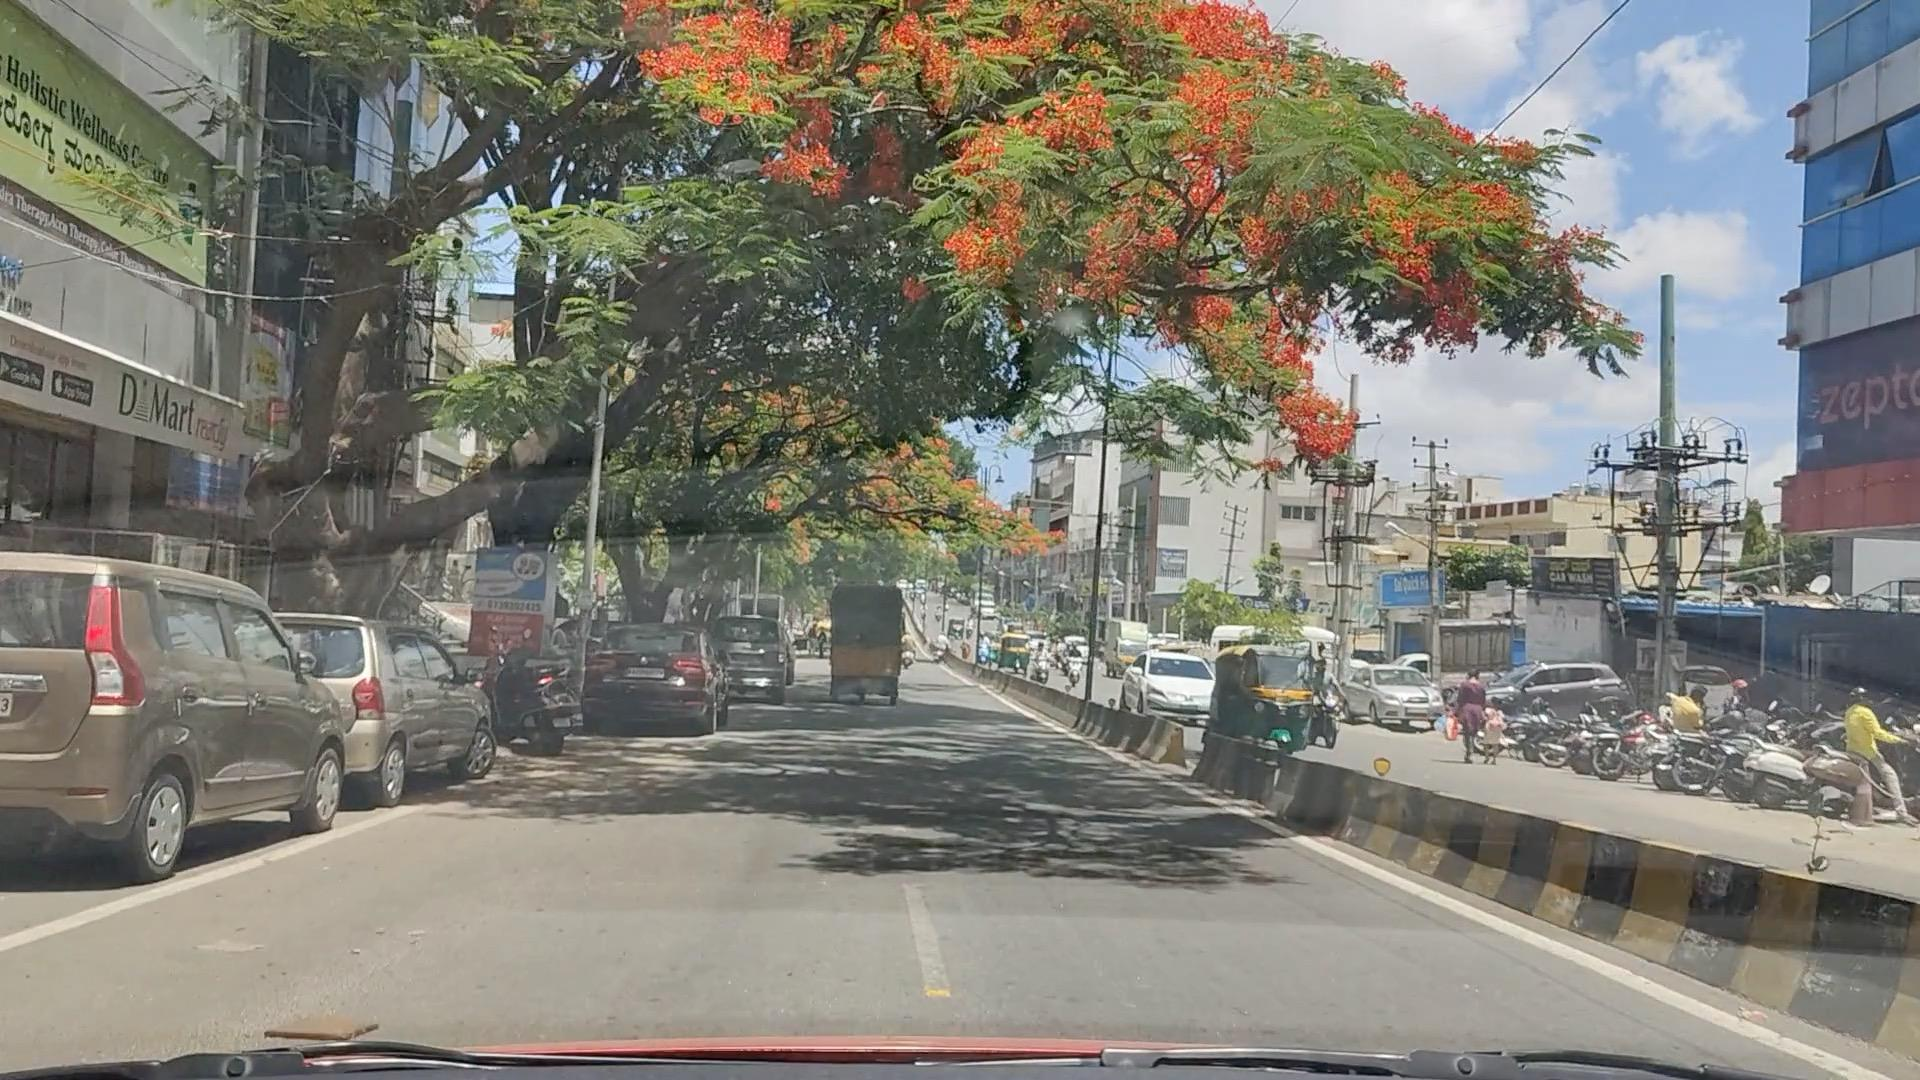HMV: (827, 587, 902, 703)
LMV: (0, 563, 203, 894)
